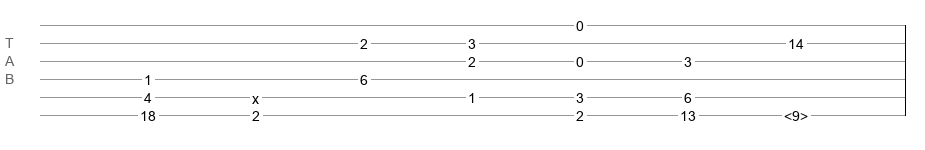0: (576, 18, 584, 28), (576, 54, 584, 64)
1: (144, 72, 152, 82), (468, 90, 476, 100)
13: (680, 108, 696, 118)
14: (788, 36, 804, 46)
18: (140, 108, 156, 118)
2: (252, 108, 260, 118), (360, 36, 368, 46), (468, 54, 476, 64), (576, 108, 584, 118)
3: (468, 36, 476, 46), (576, 90, 584, 100), (684, 54, 692, 64)
4: (144, 90, 152, 100)
6: (360, 72, 368, 82), (684, 90, 692, 100)
harmonic: (784, 108, 808, 118)
x: (252, 91, 259, 99)
